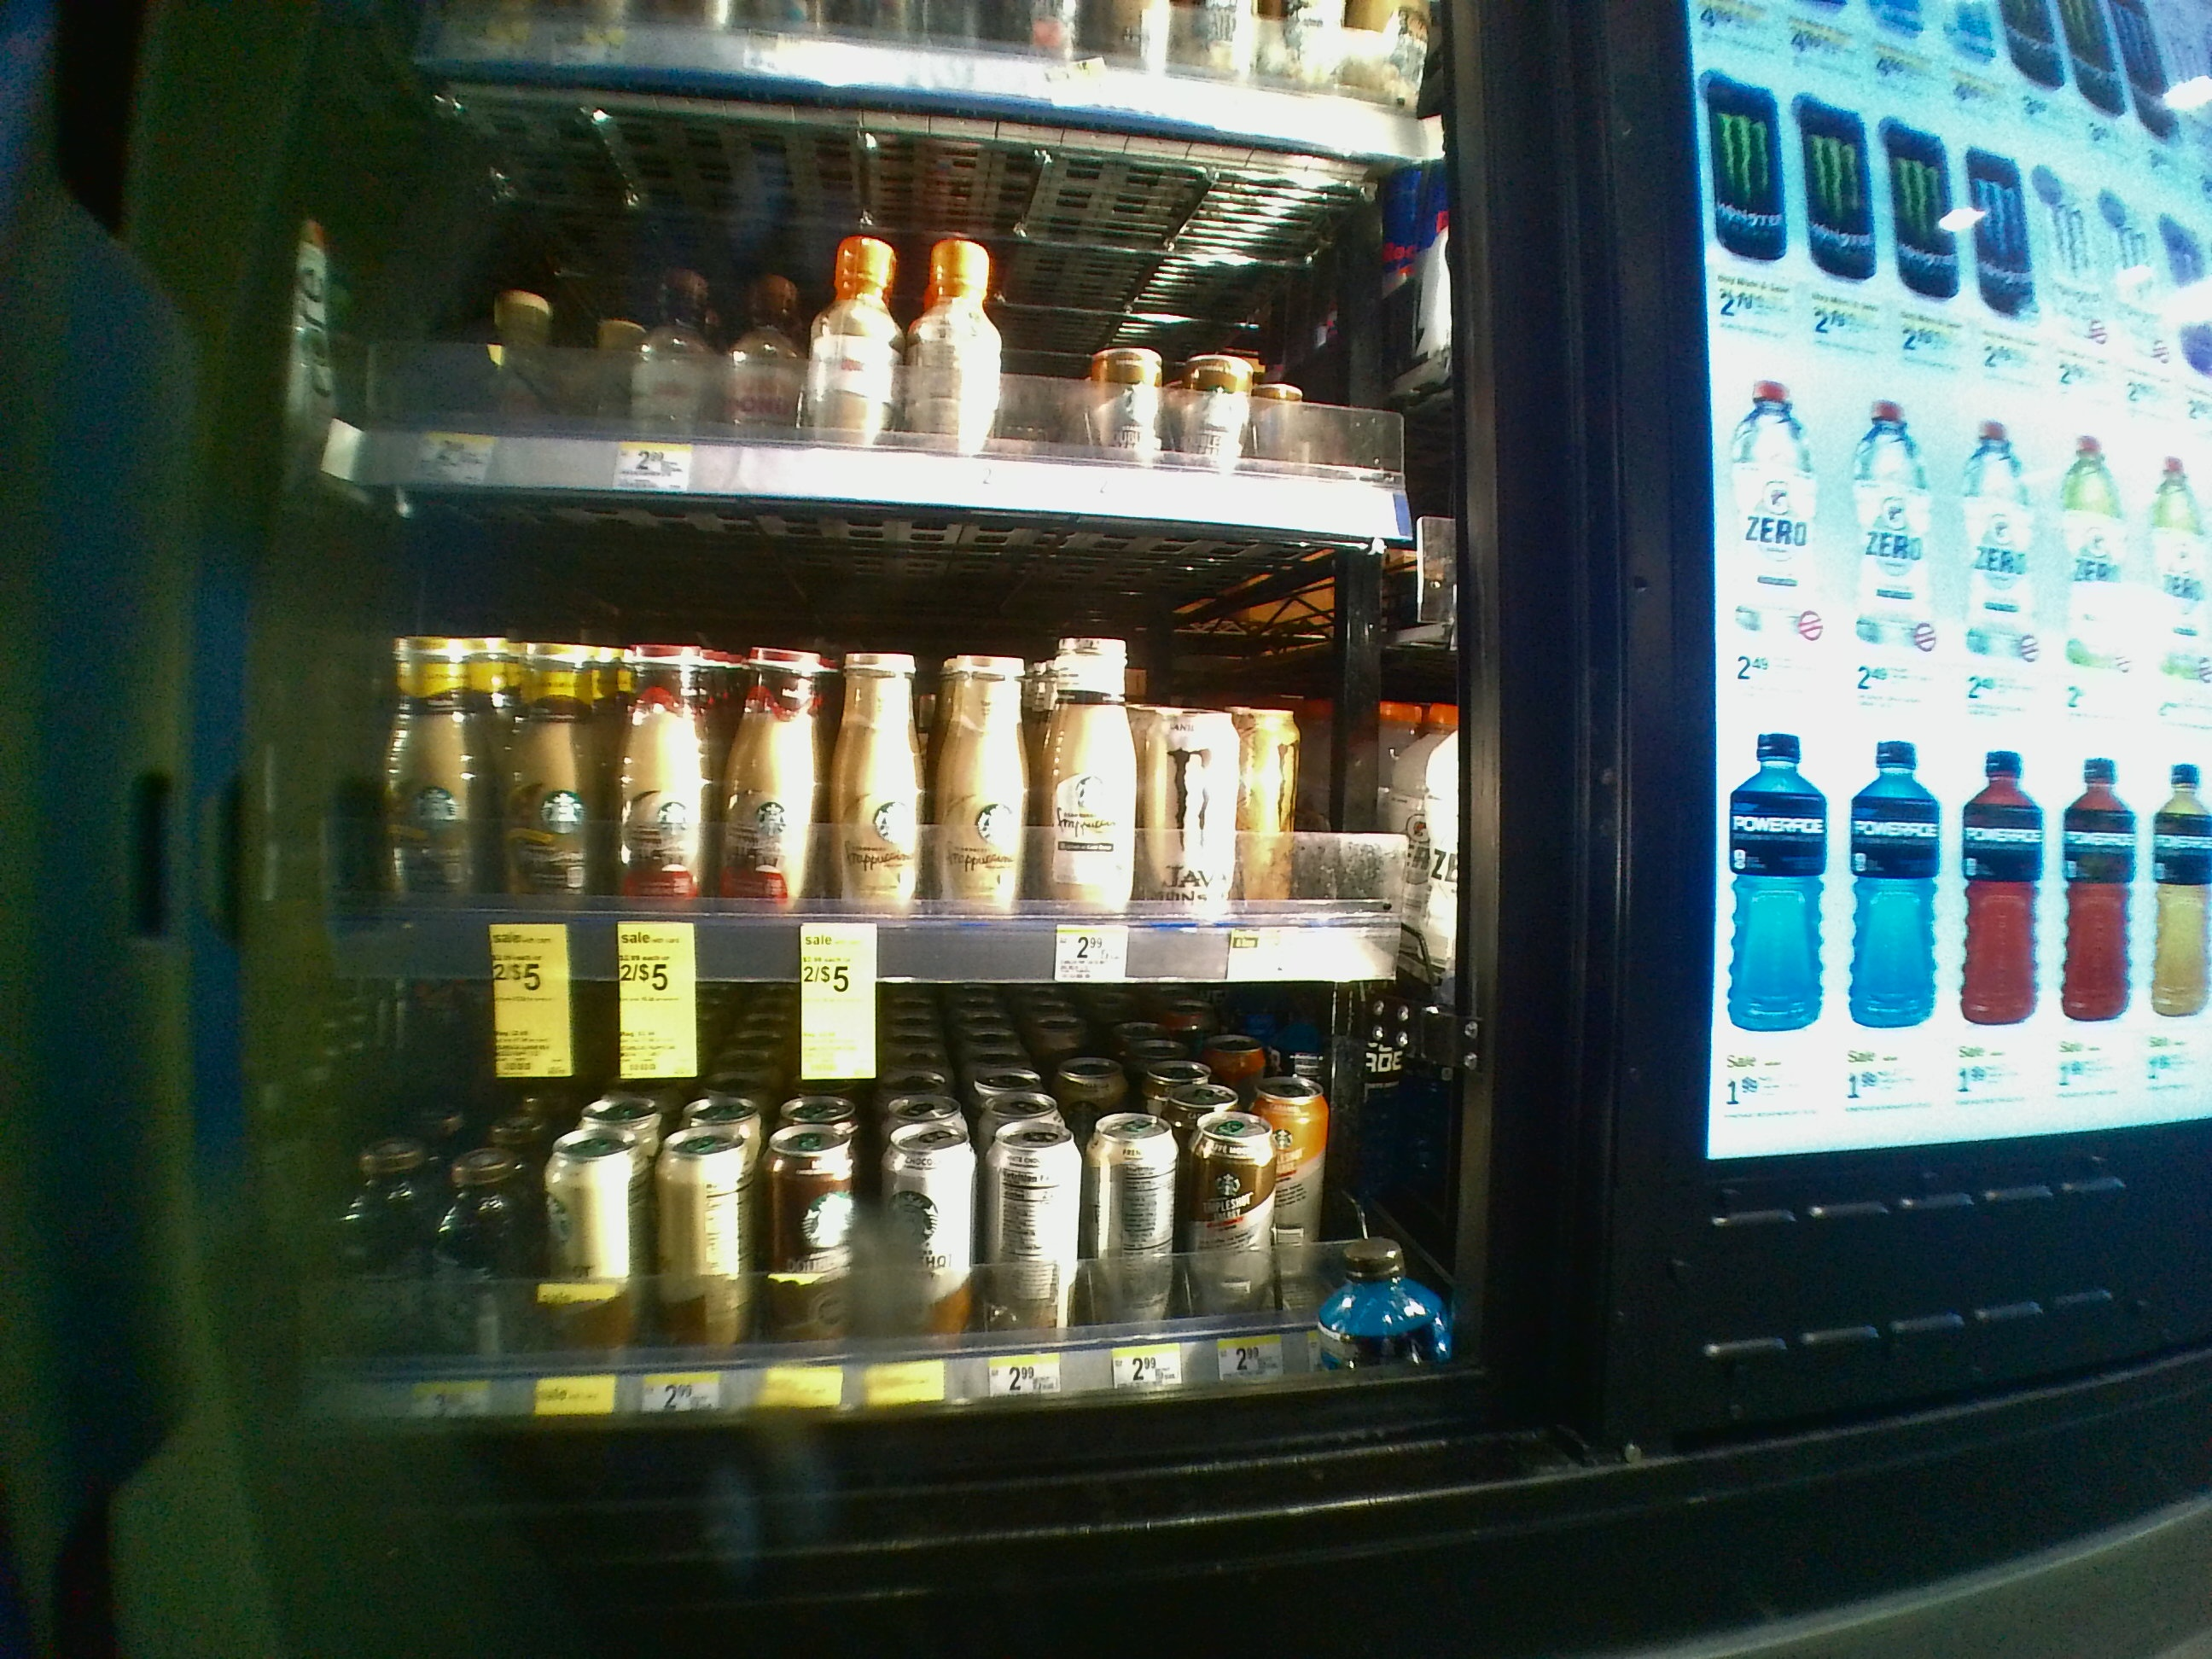shelf: (258, 488, 1479, 993), (240, 985, 1486, 1441)
